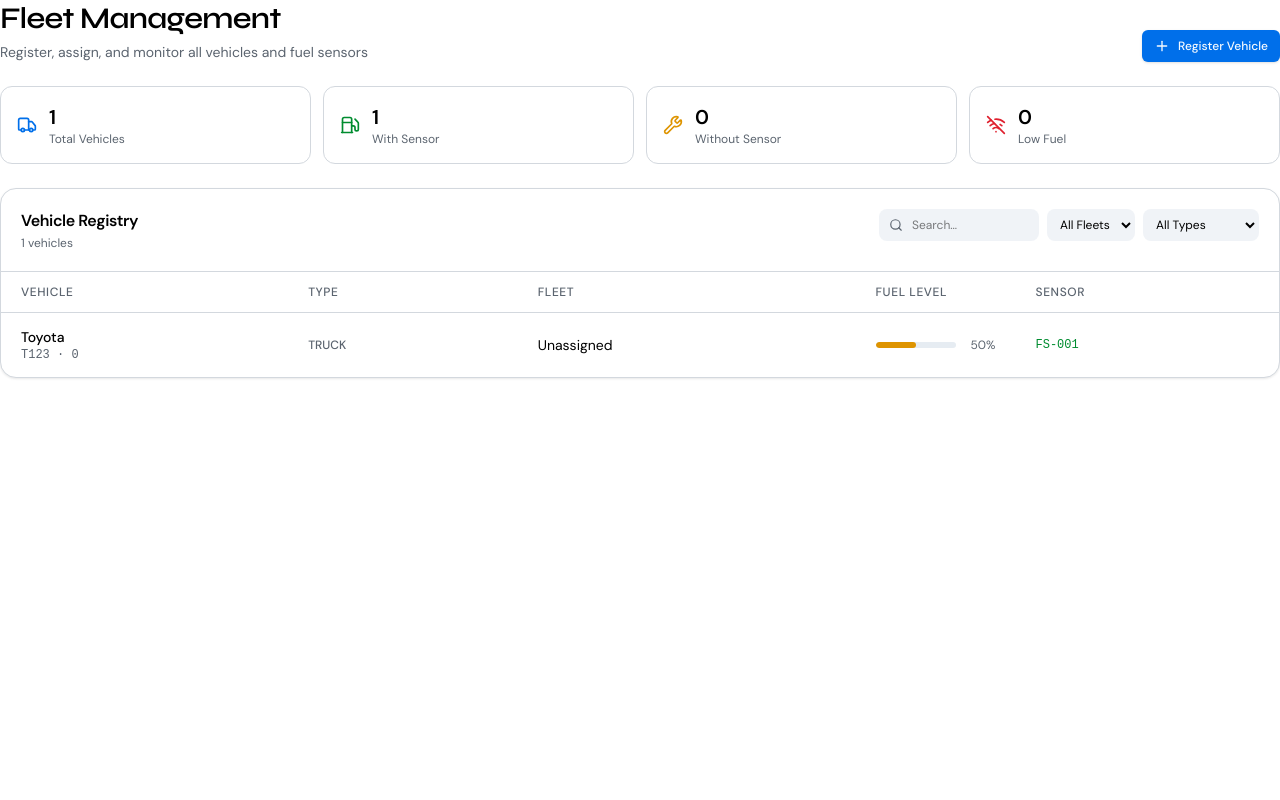
it: should close refuel dialog when cancel is clicked
The width and height of the screenshot is (1280, 800).
Expected: the text "T123 · 0" is shown, [21,348,79,362]
Click the text "Toyota".
click(43, 337)  # box [21,328,64,346]
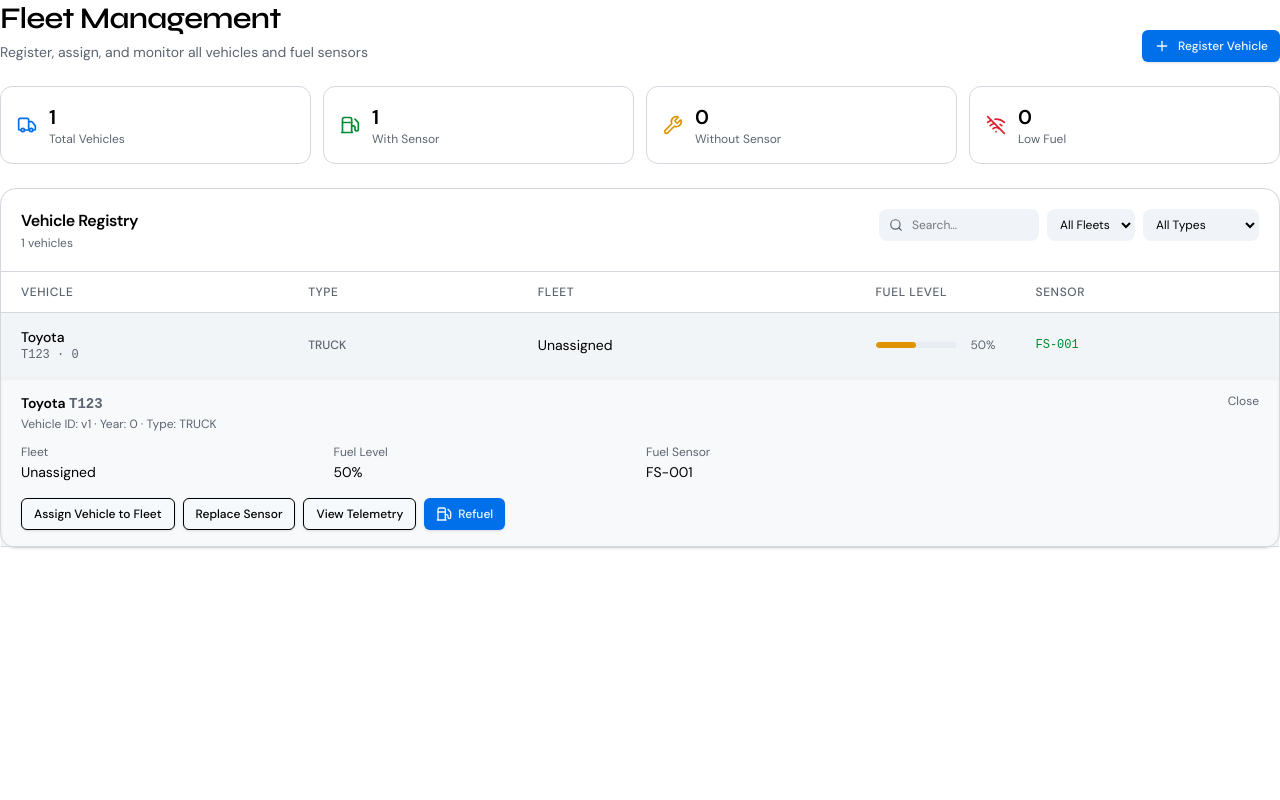
Click the button "Refuel".
click(465, 514)  # box [424,498,505,530]
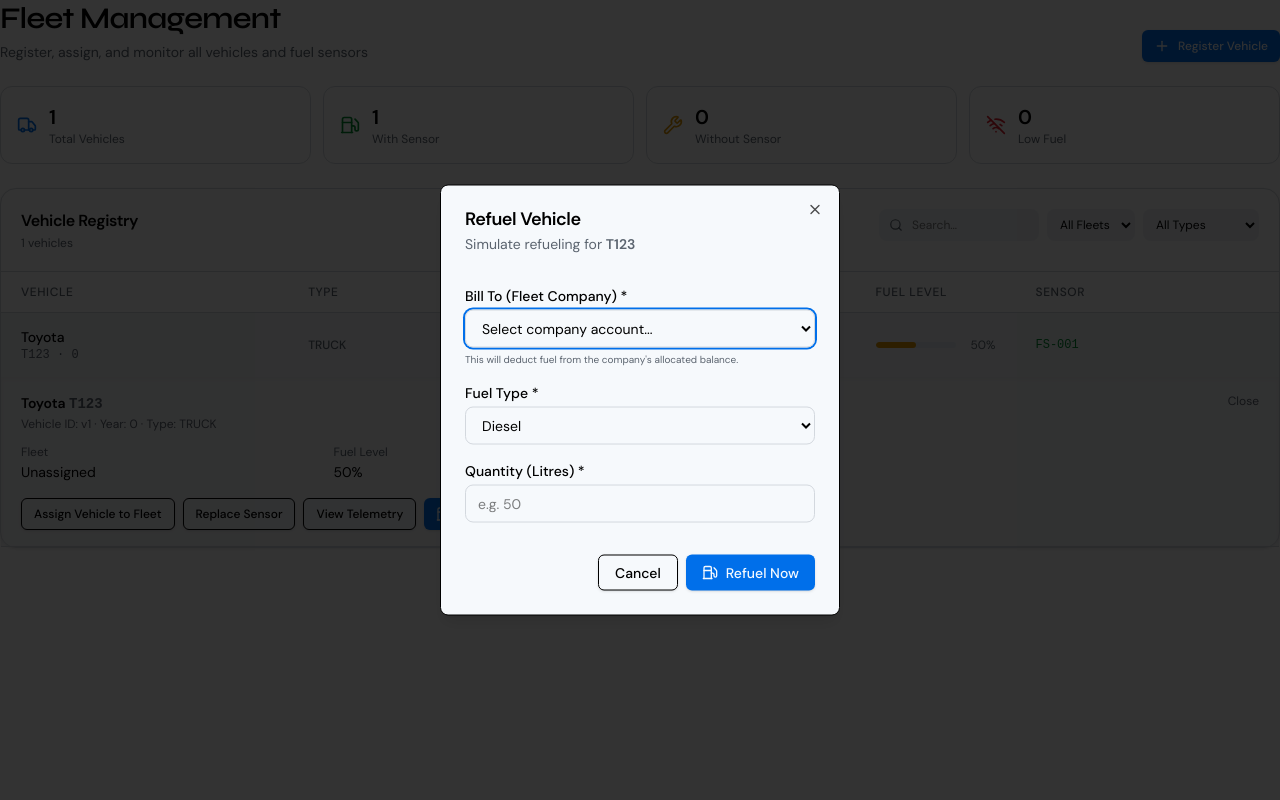
Now the text "Simulate refueling for T123" is shown, box [465,234,635,252]
Note: Close using cancel button
Click the button "Cancel".
click(638, 572)  # box [598,554,678,590]
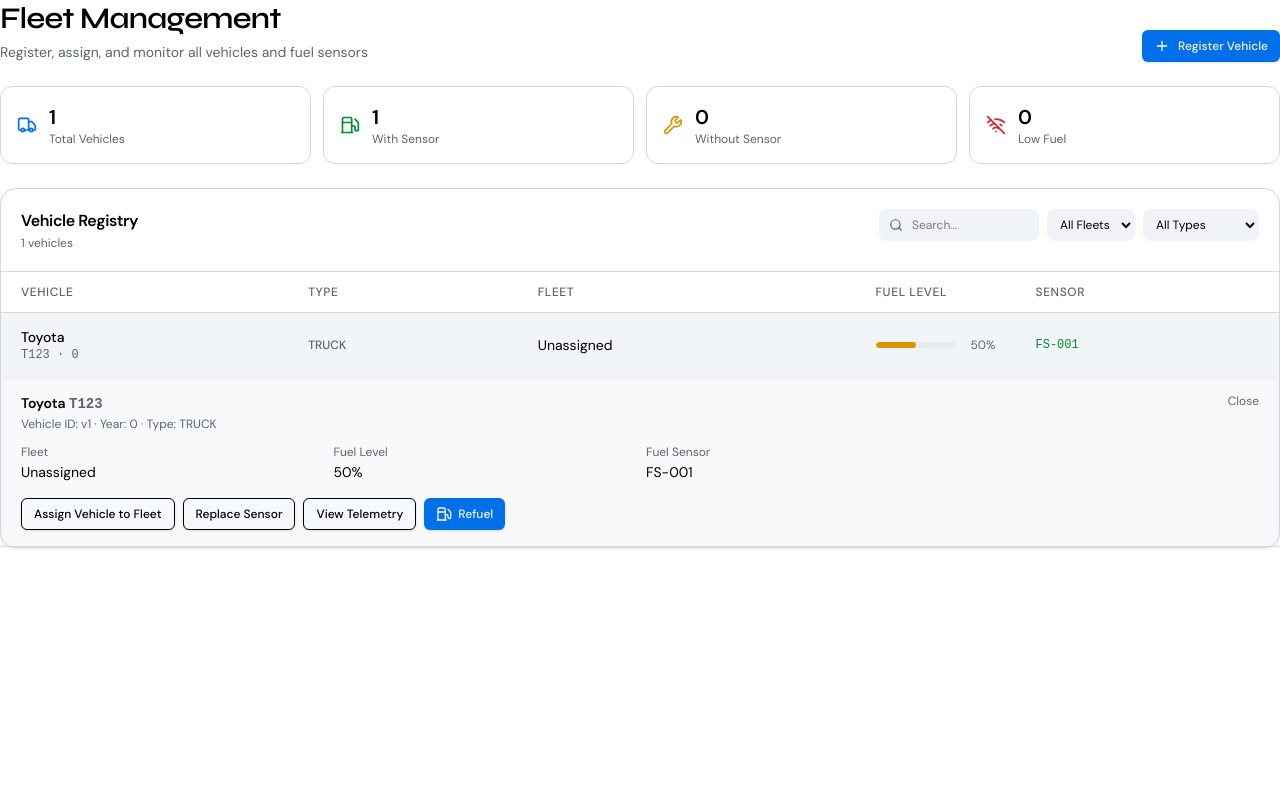
Now the text "Simulate refueling for" is gone
